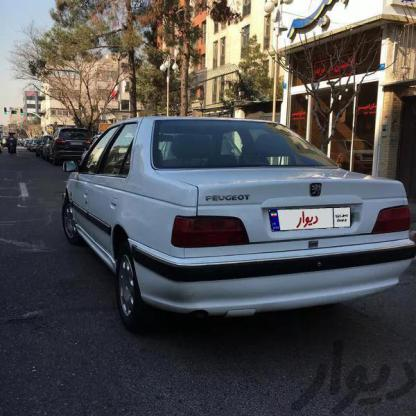car: (60, 120, 416, 321), (46, 122, 91, 170)
